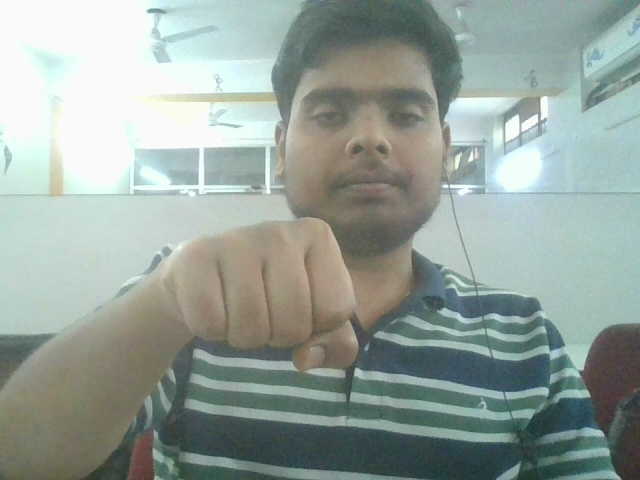Yes: (137, 206, 382, 386)
